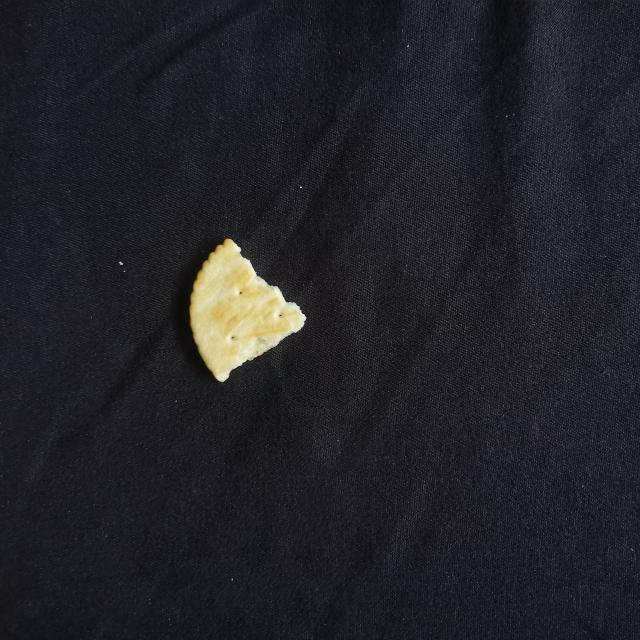Broken: (189, 237, 307, 383)
